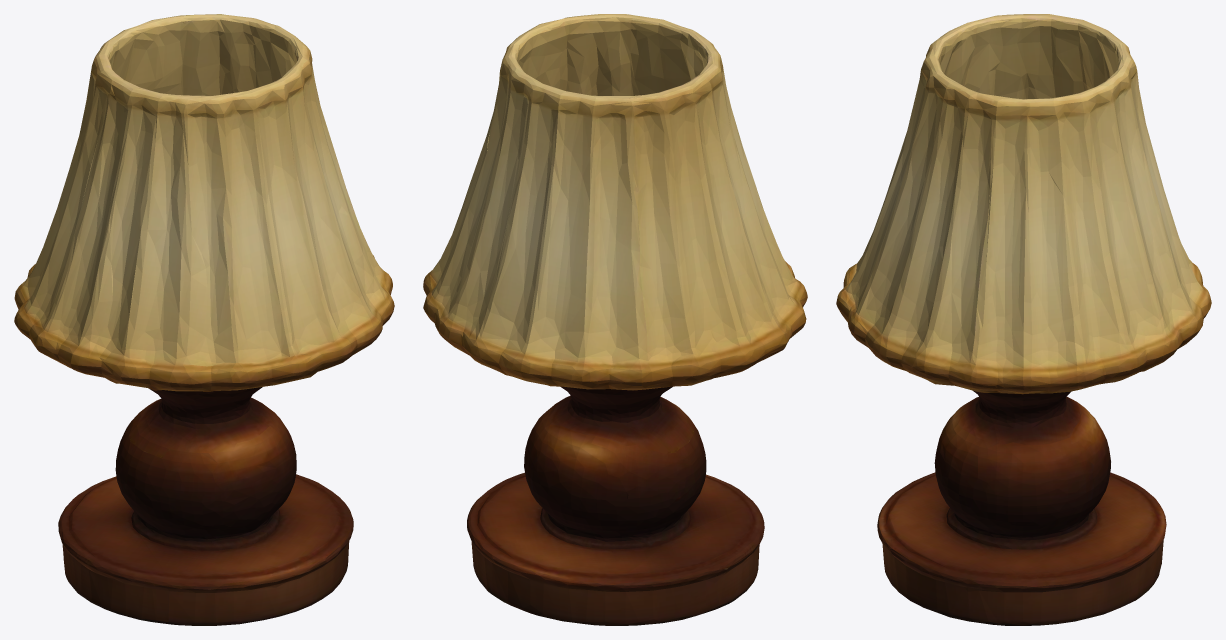
File: table-lamp.glb
The picture shows the model from 3 angles, left to right: view 1: azimuth 30°, elevation 25°; view 2: azimuth 150°, elevation 25°; view 3: azimuth 270°, elevation 25°; orthographic projection.
Visible parts, largest first — view 1: world; view 2: world; view 3: world.
Boxes of the visible parts, x1=… form: world: x1=14, y1=14, x2=394, y2=625; world: x1=423, y1=14, x2=807, y2=625; world: x1=836, y1=14, x2=1211, y2=625.
Bounding box in the file's own units: 0.6964 × 1 × 0.6675.
1 material, 1 textured.
